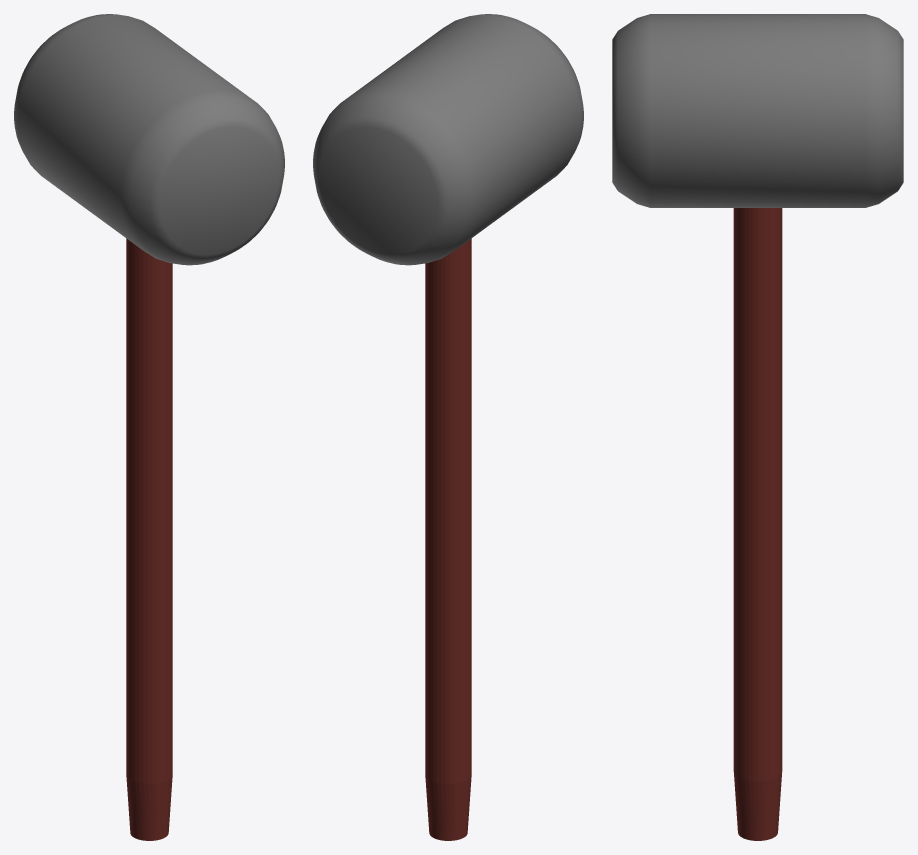
File: marreta.fbx
3 views of the same model, side by side, from view 1: azimuth 30°, elevation 25°; view 2: azimuth 150°, elevation 25°; view 3: azimuth 270°, elevation 25° (orthographic). The views are drawn at different scales.
Parts seen in each view (by area): view 1: Cylinder.001, Cylinder; view 2: Cylinder.001, Cylinder; view 3: Cylinder.001, Cylinder.
Boxes of the visible parts, x1,y1,x2,y2 form: Cylinder.001: [14, 14, 284, 265]; Cylinder: [126, 238, 172, 840]; Cylinder.001: [313, 14, 583, 265]; Cylinder: [425, 238, 471, 840]; Cylinder.001: [612, 14, 903, 207]; Cylinder: [733, 208, 782, 840].
Size of the model in its own units: 14.84 by 68.23 by 22.26.
